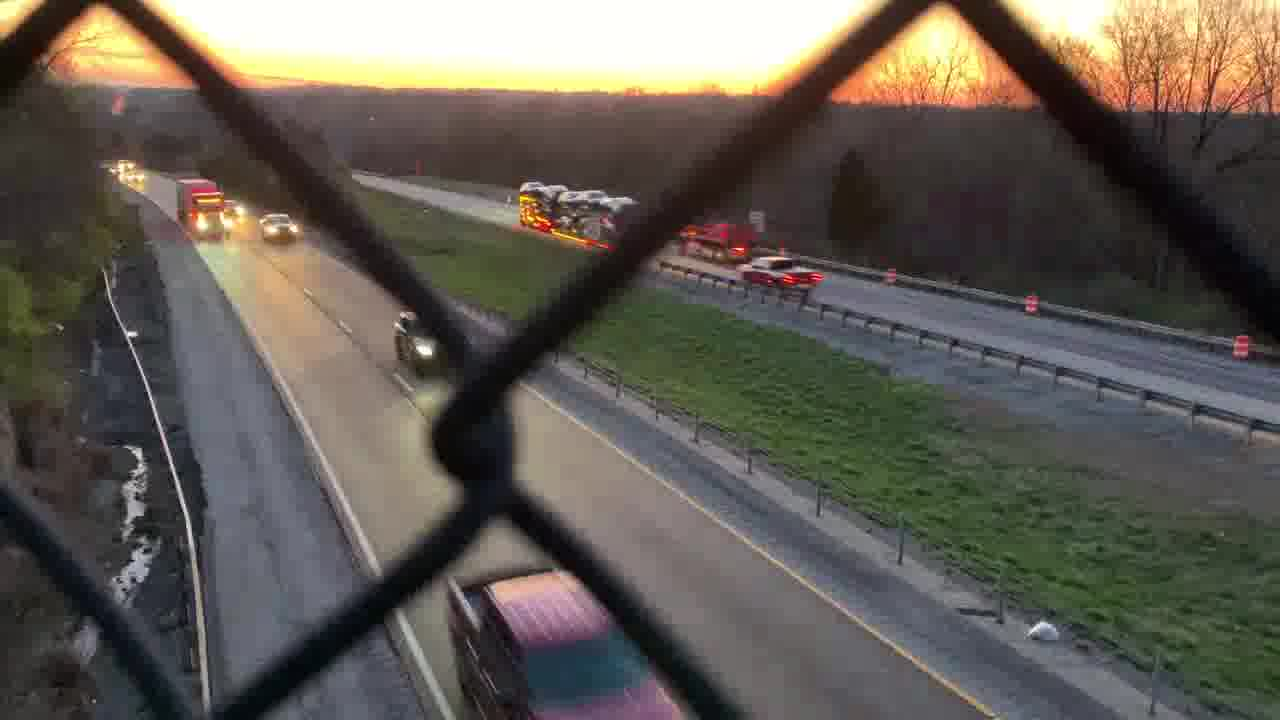heavyTruck: (517, 185, 649, 245), (179, 177, 227, 243)
lightTruck: (456, 573, 681, 720), (744, 255, 827, 300)
